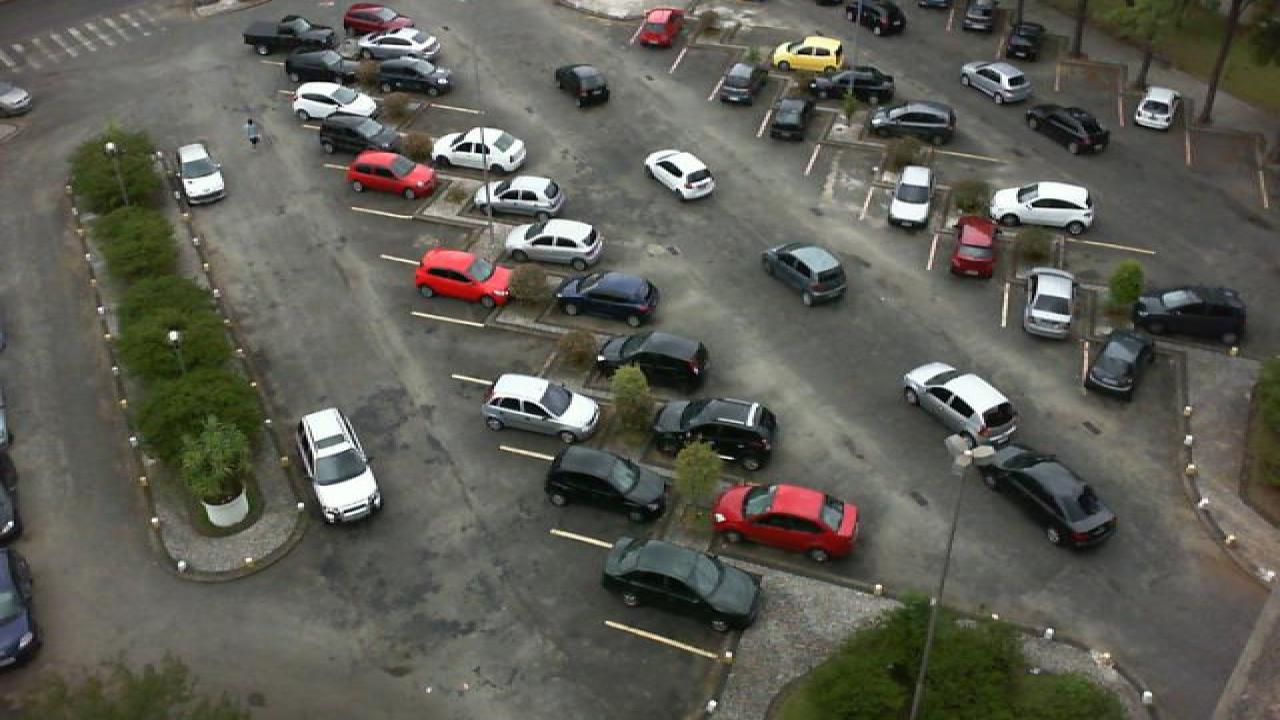Car: (602, 538, 764, 630), (978, 444, 1120, 548), (714, 481, 860, 562), (902, 359, 1020, 447), (542, 446, 670, 526), (298, 408, 382, 526), (652, 396, 780, 469), (480, 372, 600, 446), (594, 330, 712, 396), (1130, 284, 1250, 348), (988, 180, 1096, 237), (410, 248, 516, 306), (556, 271, 660, 327), (504, 218, 608, 272), (760, 242, 846, 307), (428, 124, 528, 176), (1082, 328, 1154, 400), (346, 150, 438, 199), (472, 175, 564, 222), (1022, 105, 1110, 154), (868, 100, 958, 145), (1022, 266, 1078, 338), (288, 81, 380, 124), (642, 148, 718, 200), (314, 112, 402, 156), (240, 14, 332, 56), (804, 65, 898, 106), (884, 163, 938, 231), (174, 142, 228, 206), (948, 215, 1002, 277), (956, 60, 1032, 104), (350, 27, 442, 63), (374, 56, 452, 96), (766, 35, 844, 74), (282, 49, 356, 88), (554, 63, 612, 108), (340, 1, 414, 36), (842, 0, 908, 37), (632, 5, 686, 48), (1132, 86, 1182, 130), (764, 96, 810, 142), (712, 62, 758, 107), (1002, 21, 1048, 63), (960, 0, 998, 33)
